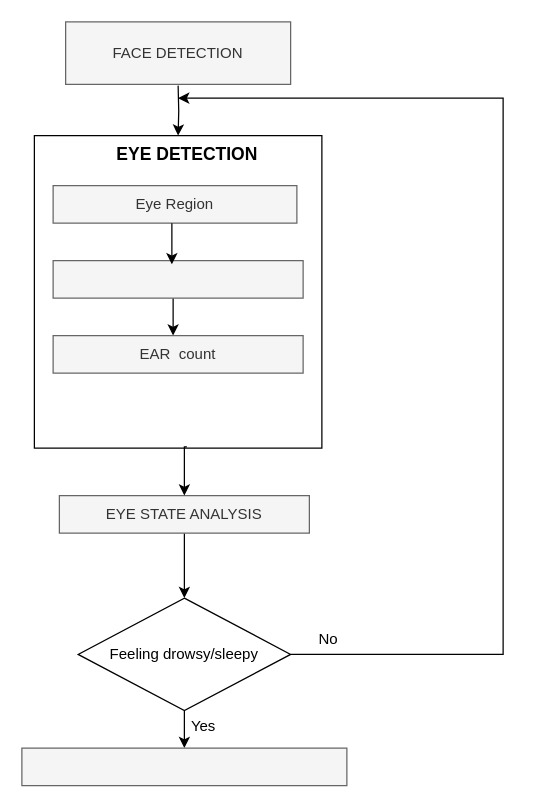
Some shapes in this 535 by 808 pixel diagram are drawn without their labels. The shapes that lost their labels are listed below. From the top down, each one's centre as x and y in pixels, then its label:
At (177,278): "Eye landmarks".
At (184,766): "Alert Message".
